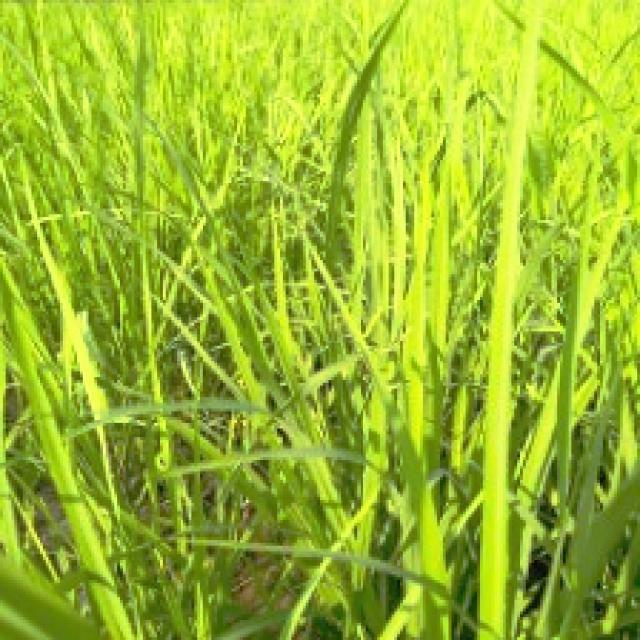health: (393, 2, 578, 640)
